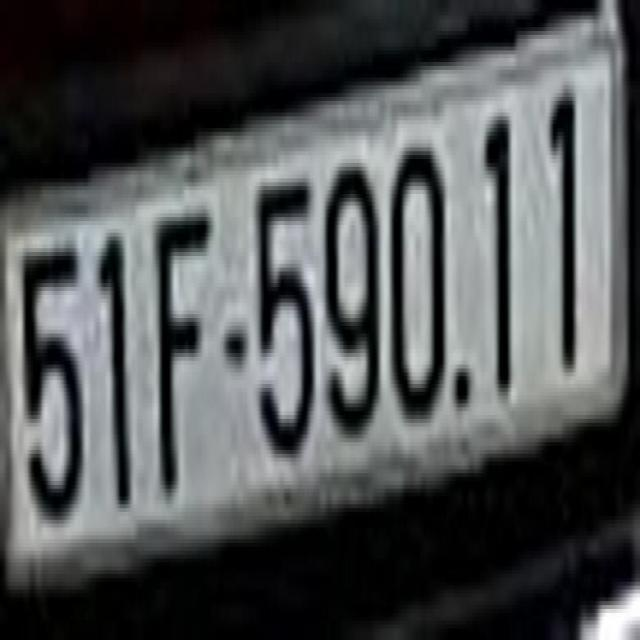0: (392, 132, 446, 427)
1: (97, 233, 129, 532), (483, 108, 512, 400), (553, 74, 577, 372)
5: (26, 233, 82, 508), (260, 170, 312, 466)
9: (328, 155, 379, 431)
F: (160, 214, 212, 501)
